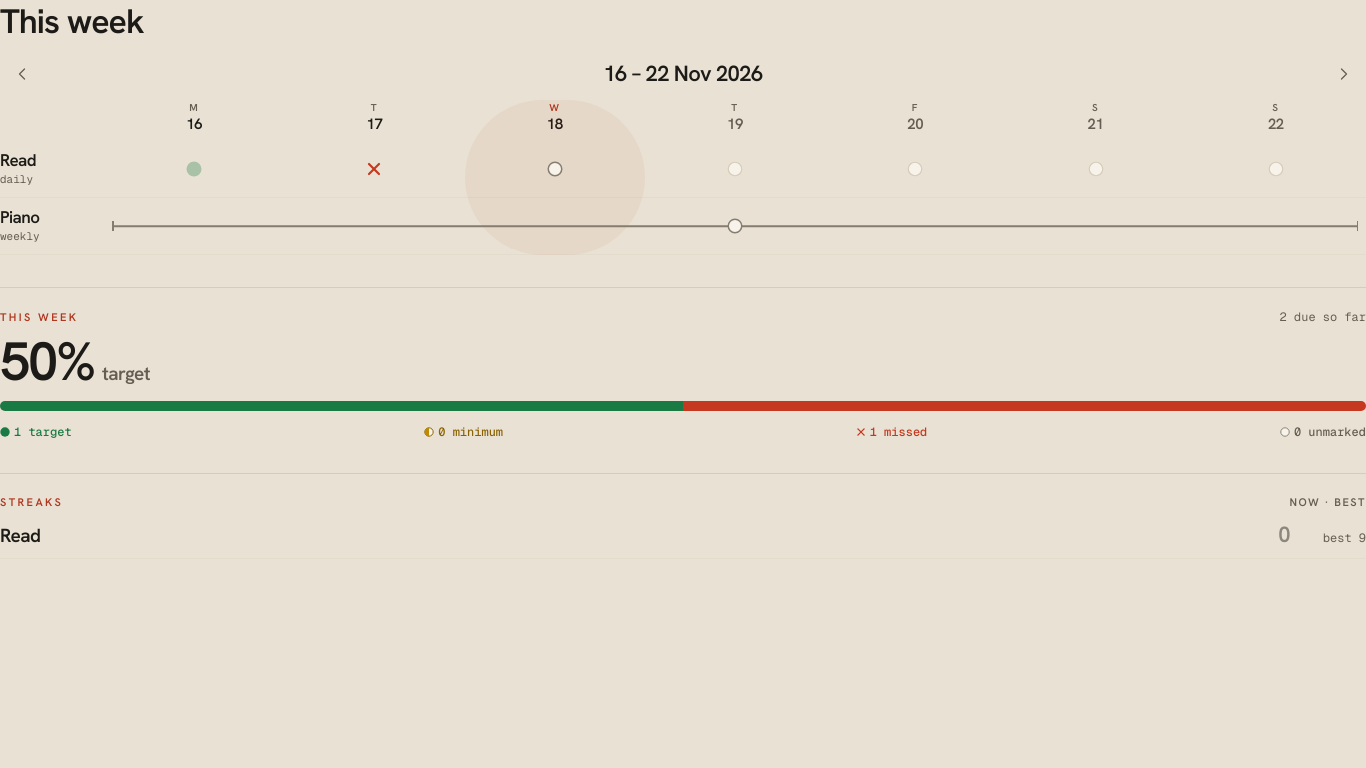
Test: WeekPanel › opens with the current color and note, and clears
The image size is (1366, 768).
What coordinates should you click on to do the following:
click the button named "Read, Mon 16 Nov, Target hit"
I would click on:
 (194, 169)
Its box is [104,147,284,191].
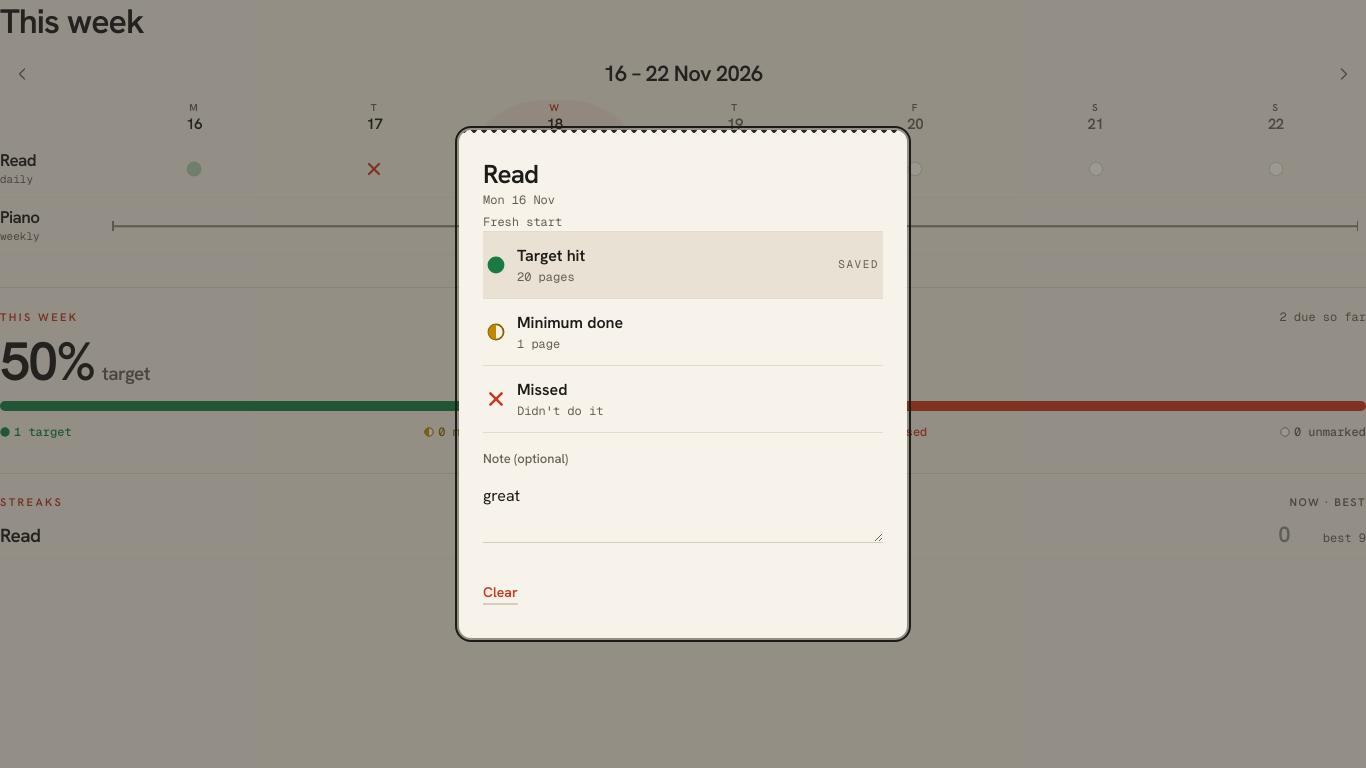
Now the text box labelled "Note (optional)" holds "great", box [483,474,883,543]
What coordinates should you click on to do the following:
click the button "Clear"
I would click on:
 (500, 592)
Its box is [483,570,518,614].
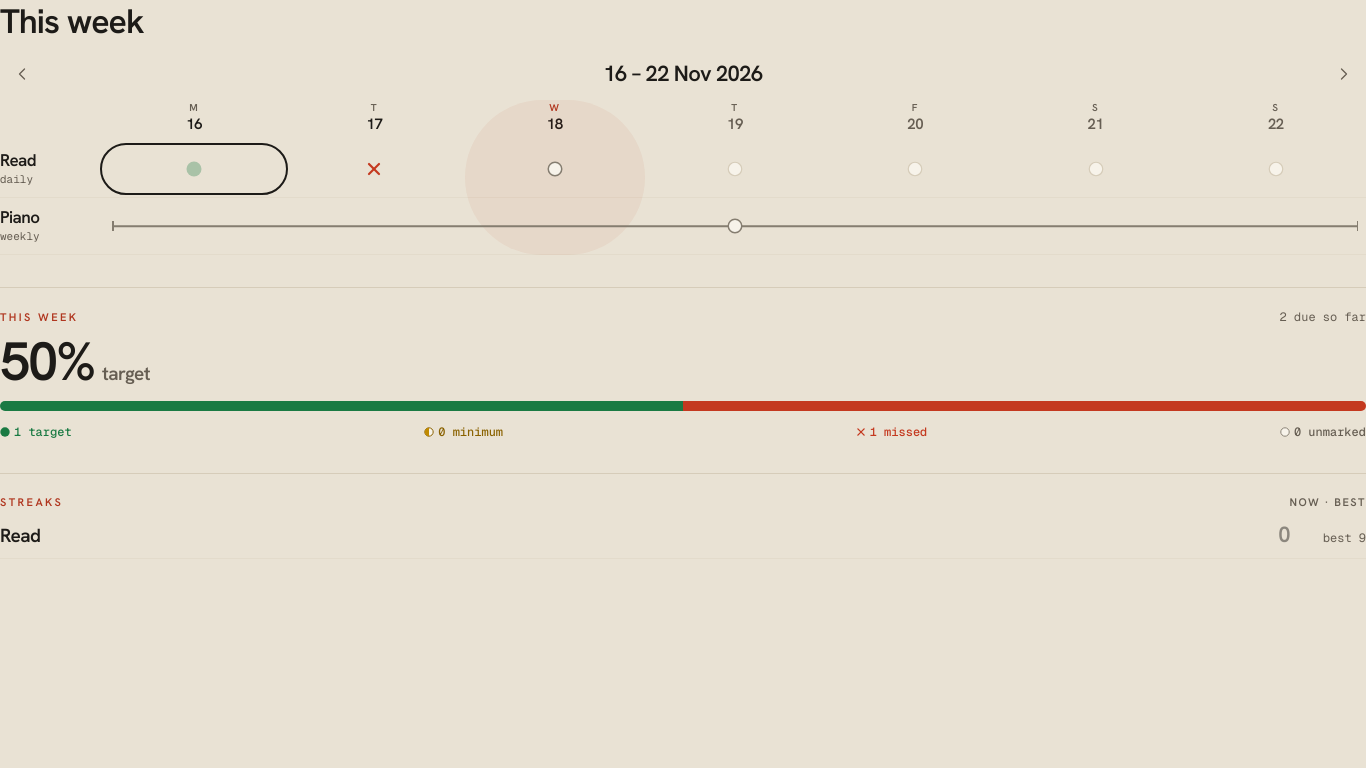
Now the dialog is gone
